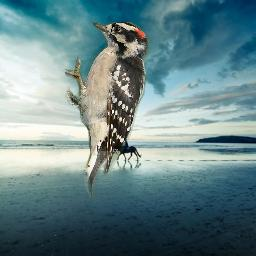Woodpecker: (65, 22, 151, 197)
